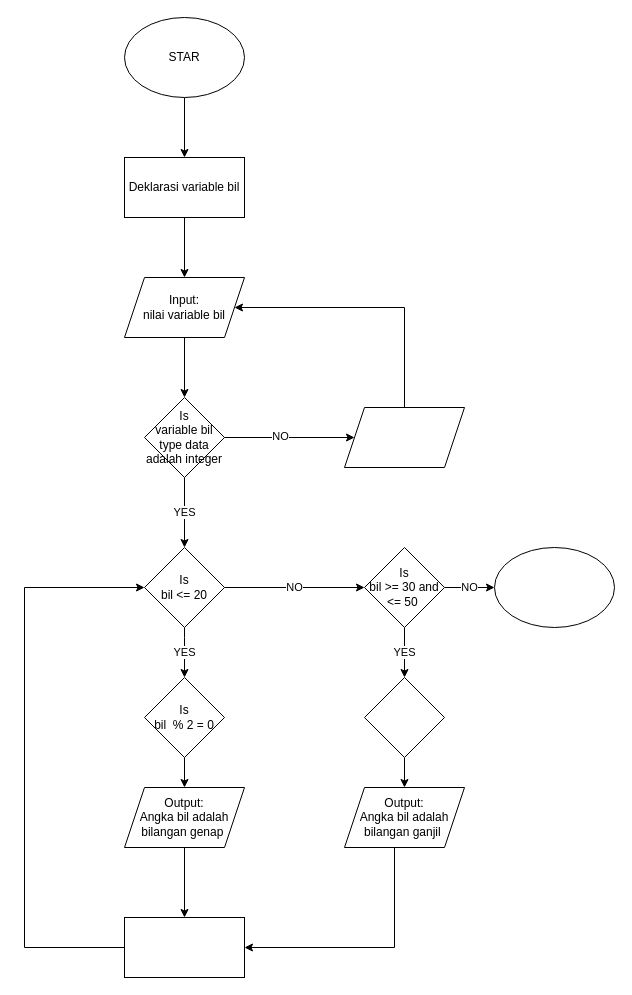
This 632x995 diagram has some shape labels left out. The centre of each missing label's shape, as x and y in pixels:
bil += 1: the point at 184,947
END: the point at 554,587
Is bil % 2 = 1: the point at 404,717
Output: bil bukan integer: the point at 404,437
